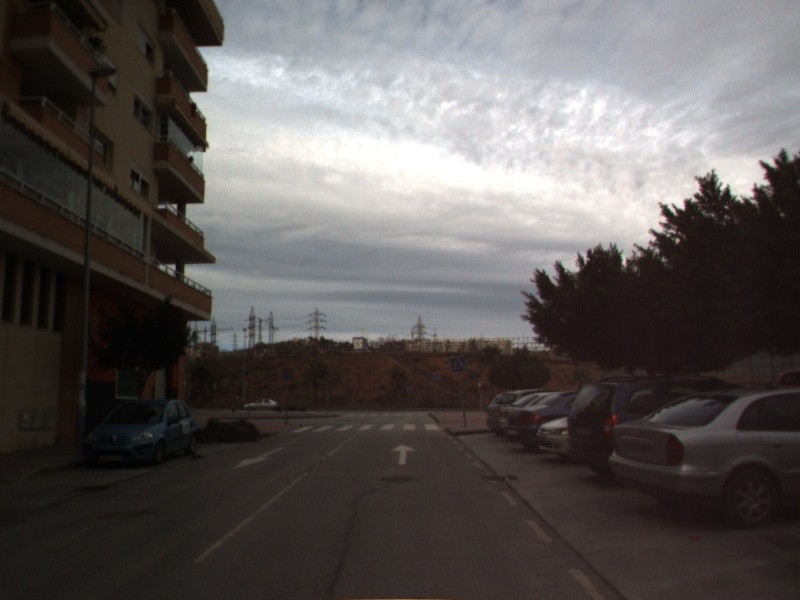STRAIGHT: (389, 442, 419, 467)
